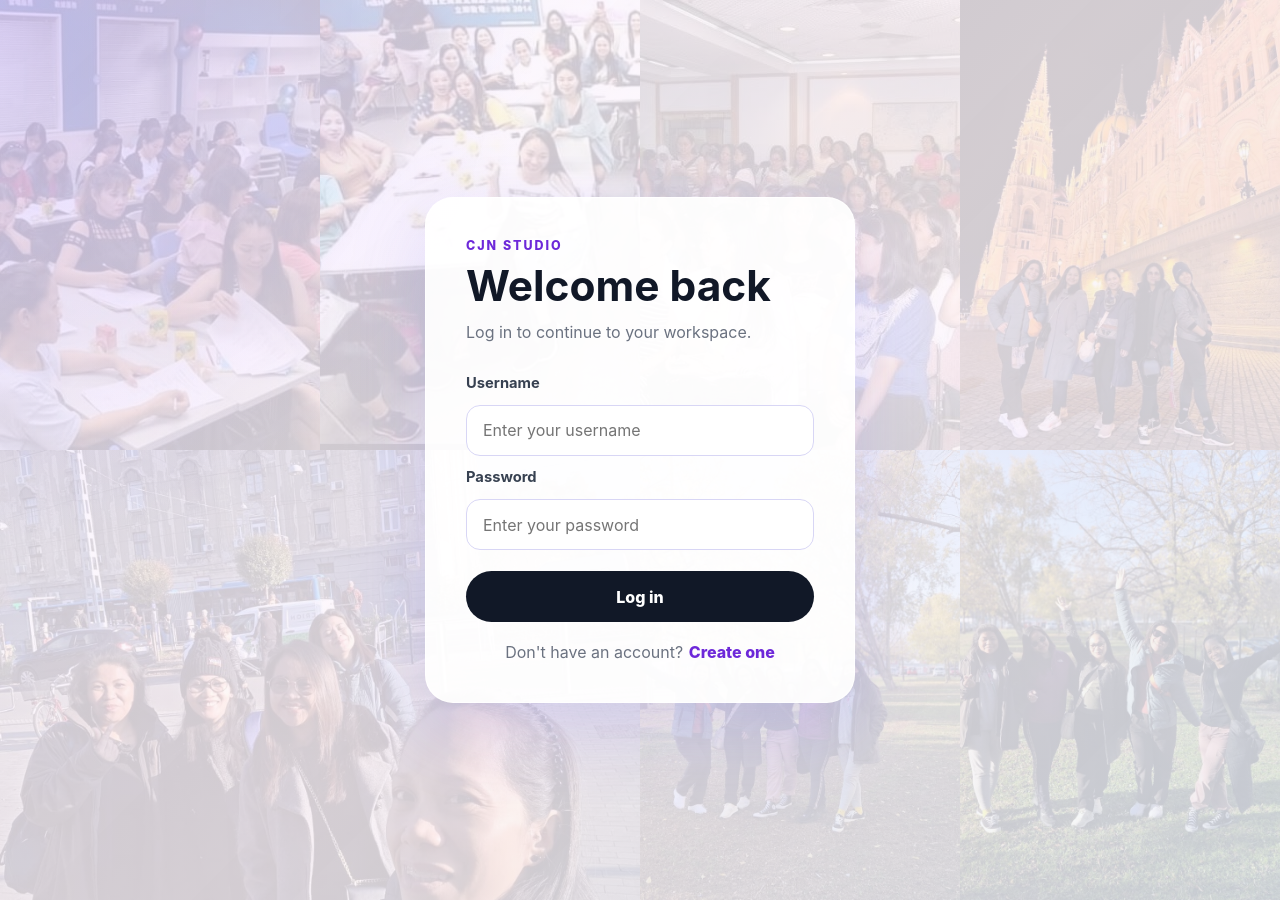
Test: logs in and shows the authenticated user
Type "wendell" into the field labelled "Username".
click(640, 430); type("wendell")  # box [466,405,814,456]
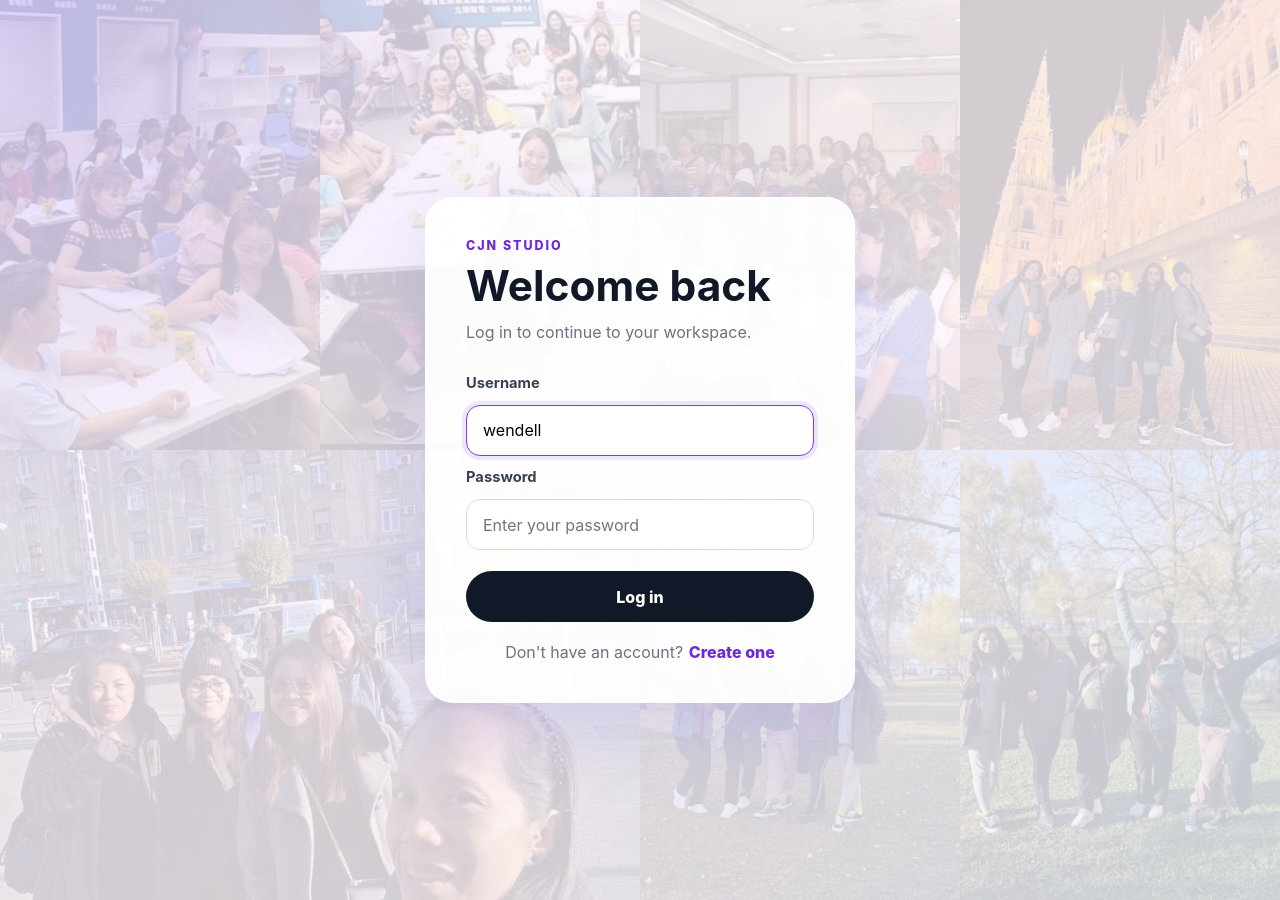
Type "password123" into the password field labelled "Password".
click(640, 524); type("password123")  # box [466,499,814,550]
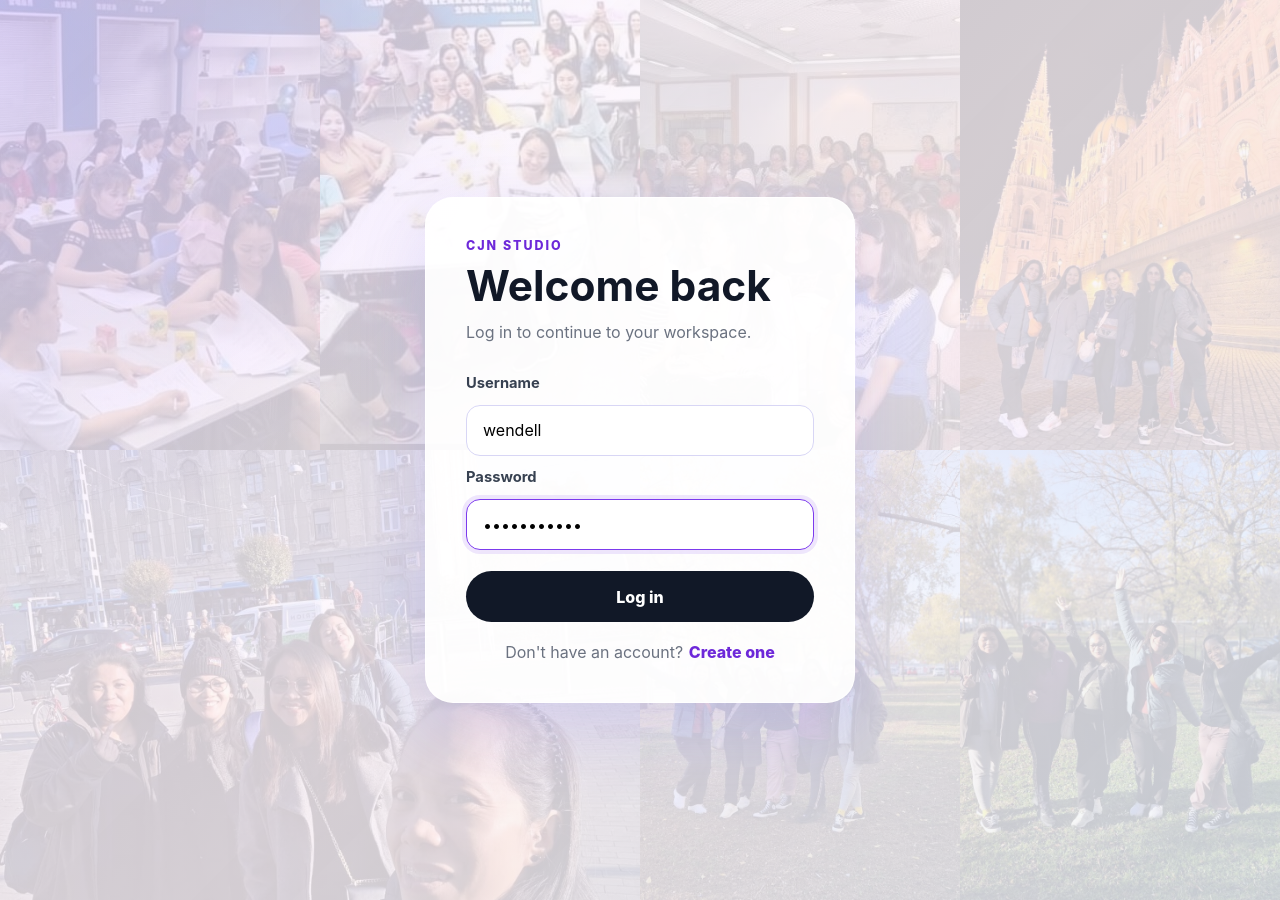
Click the button "Log in".
click(640, 597)  # box [466,572,814,622]
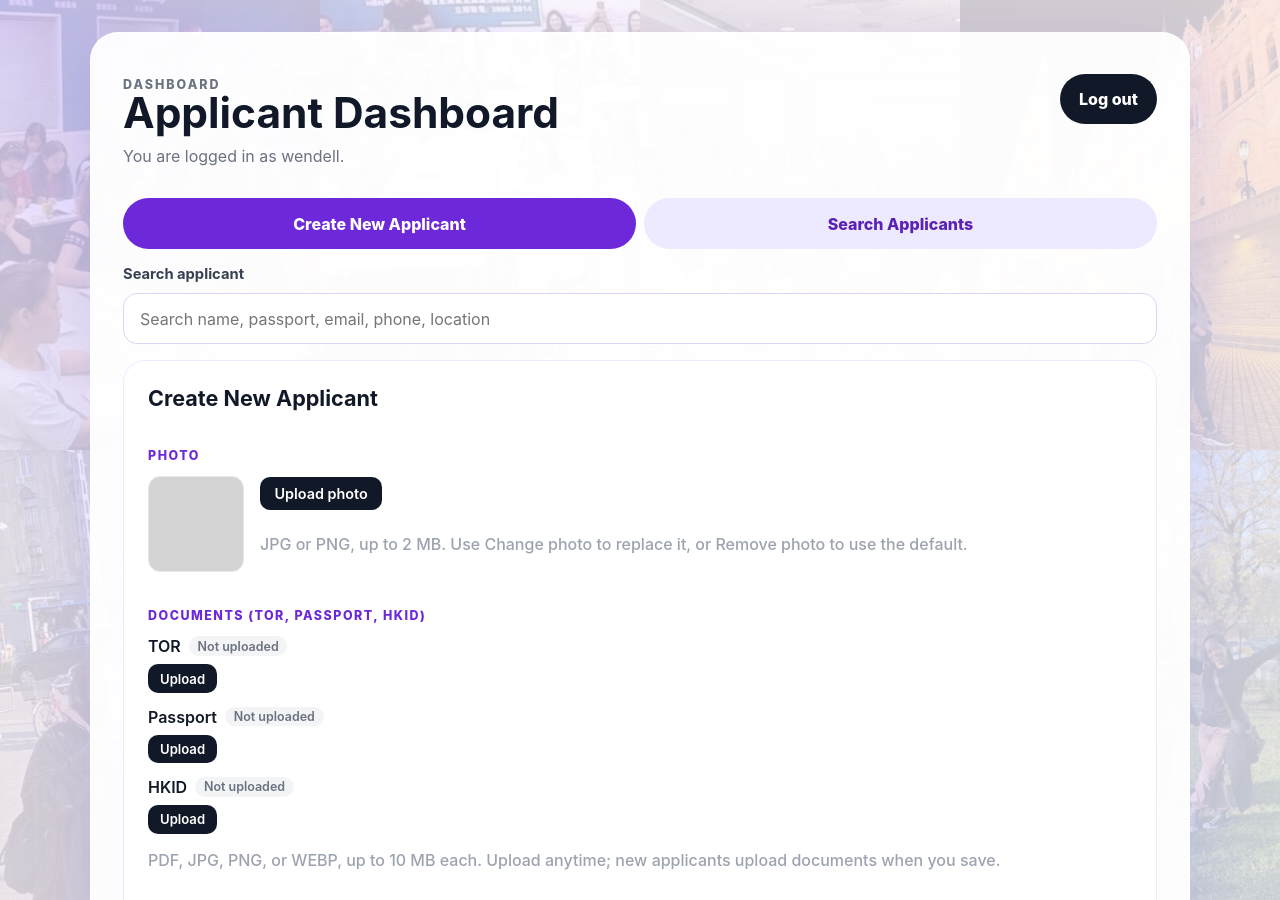
Check: the text "You are logged in as wendell." is shown, box [123,146,344,166]
